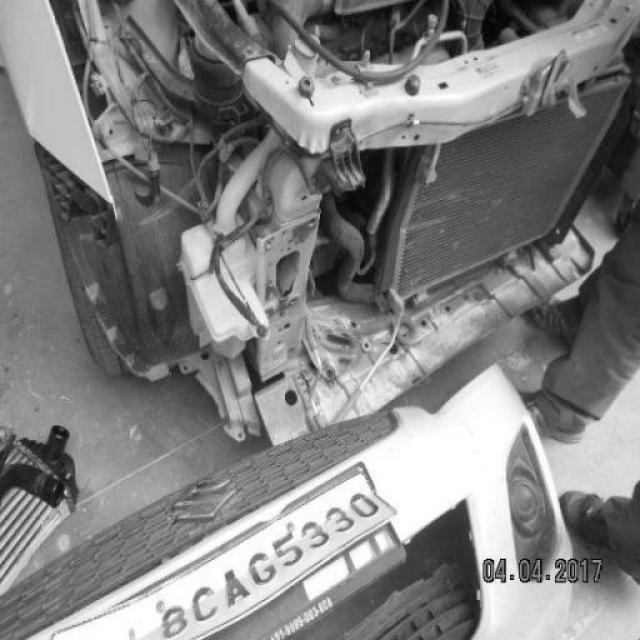crush: (37, 6, 637, 436)
